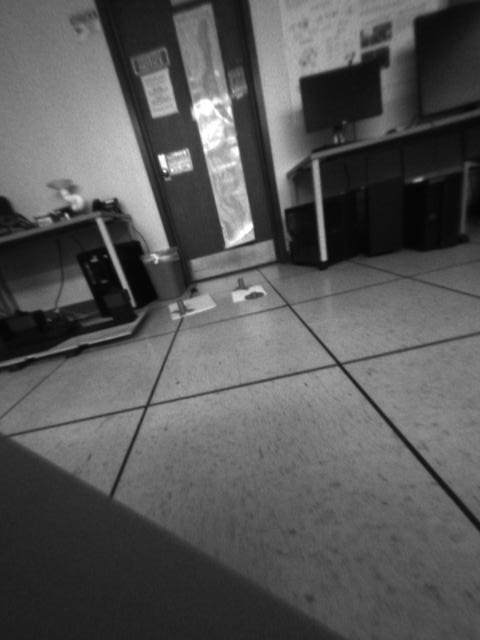X: (170, 294, 191, 321), (231, 276, 250, 292)
